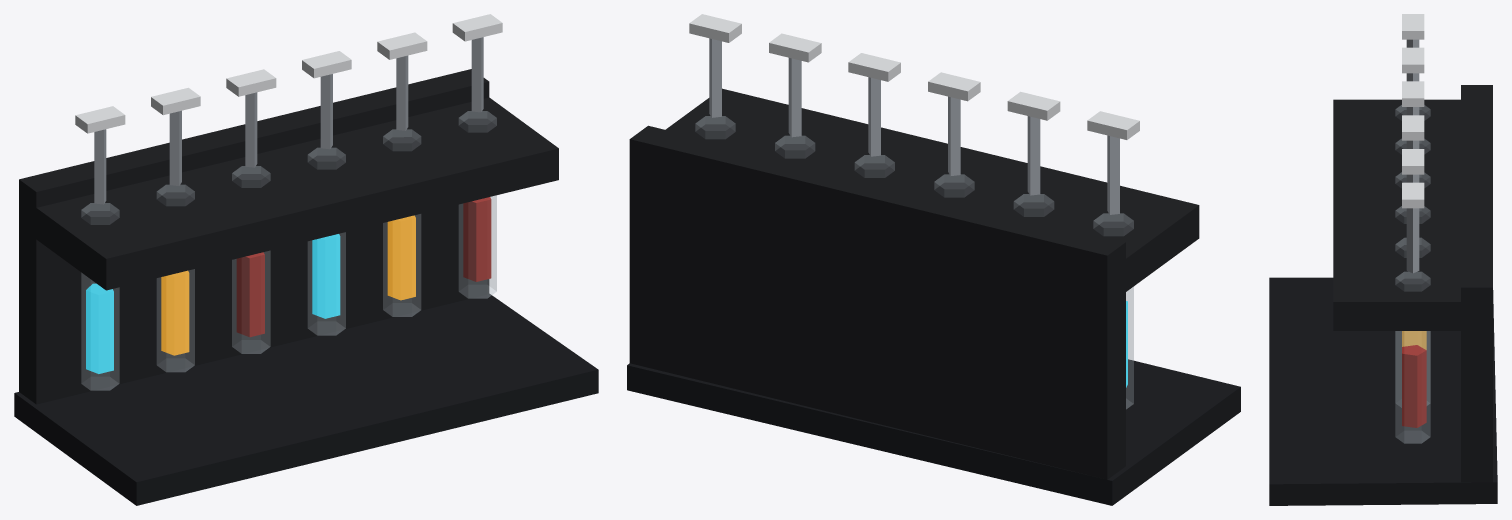
The model's file is medtool_syringe_rack.glb.
3 views of the same model, side by side, from view 1: azimuth 30°, elevation 25°; view 2: azimuth 150°, elevation 25°; view 3: azimuth 270°, elevation 25° (orthographic). The views are drawn at different scales.
Parts seen in each view (by area): view 1: medtool_syringe_rack; view 2: medtool_syringe_rack; view 3: medtool_syringe_rack.
Boxes of the visible parts, x1,y1,x2,y2 form: medtool_syringe_rack: (14, 14, 598, 505); medtool_syringe_rack: (627, 14, 1240, 505); medtool_syringe_rack: (1269, 14, 1497, 505).
Size of the model in its own units: 0.306 by 0.2045 by 0.143.
